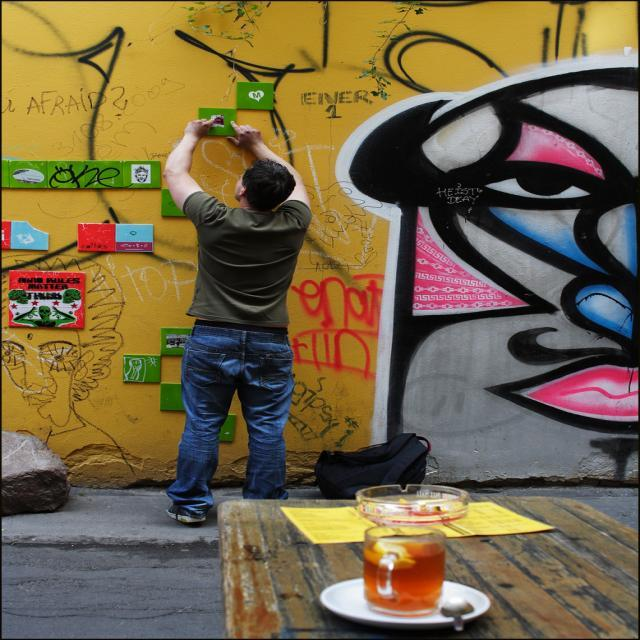Juice: (357, 531, 467, 612)
